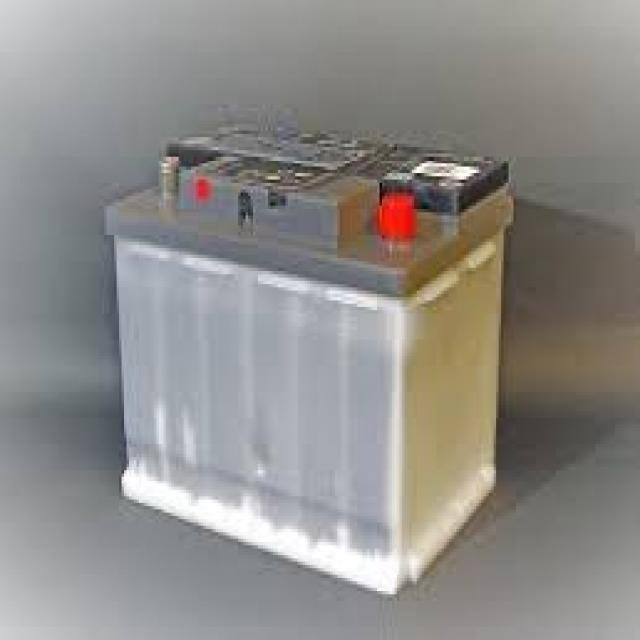non-organic waste: (108, 120, 516, 599)
